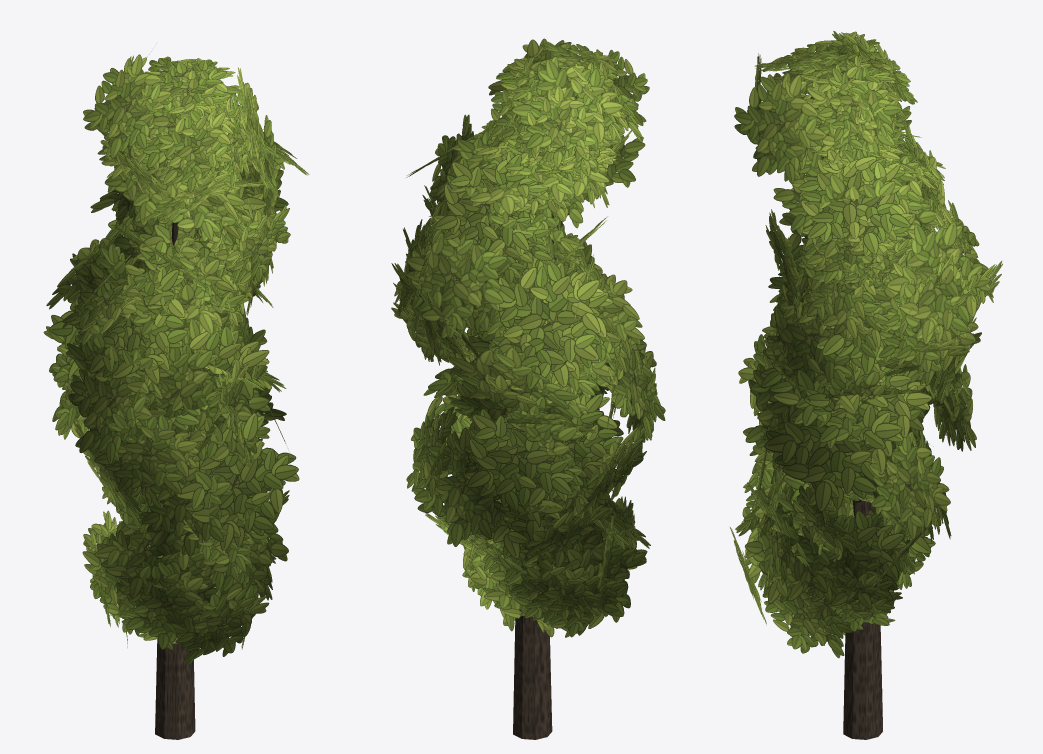
File: pioppo_1.glb
3 renders of one model, left to right at view 1: azimuth 30°, elevation 25°; view 2: azimuth 150°, elevation 25°; view 3: azimuth 270°, elevation 25°, orthographic. The views are drawn at different scales.
Parts seen in each view (by area): view 1: pioppo_1; view 2: pioppo_1; view 3: pioppo_1.
Boxes of the visible parts, x1=… form: pioppo_1: x1=43, y1=51, x2=309, y2=739; pioppo_1: x1=391, y1=38, x2=665, y2=739; pioppo_1: x1=730, y1=31, x2=1002, y2=739.
Bounding box in the file's own units: 6.89 × 16.83 × 6.95.
Materials: 2 (2 with a texture image).
